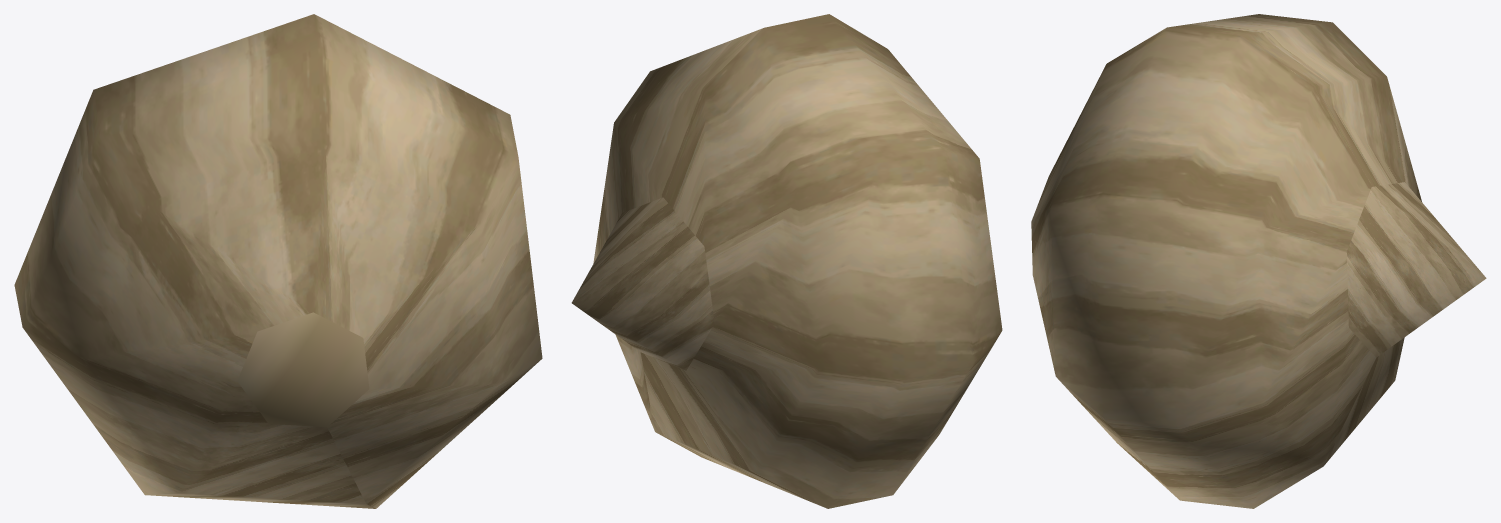
The model's file is Onion_Item (12).fbx.
The picture shows the model from 3 angles, left to right: view 1: azimuth 30°, elevation 25°; view 2: azimuth 150°, elevation 25°; view 3: azimuth 270°, elevation 25°; orthographic projection. The views are drawn at different scales.
Visible parts, largest first — view 1: Onion; view 2: Onion; view 3: Onion.
Part boxes in pixels (x1,y1,x2,y2): Onion: (14, 14, 542, 508); Onion: (571, 14, 1002, 508); Onion: (1031, 14, 1486, 508).
Bounding box in the file's own units: 0.603 × 0.6207 × 0.5679.
1 material, 1 textured.
